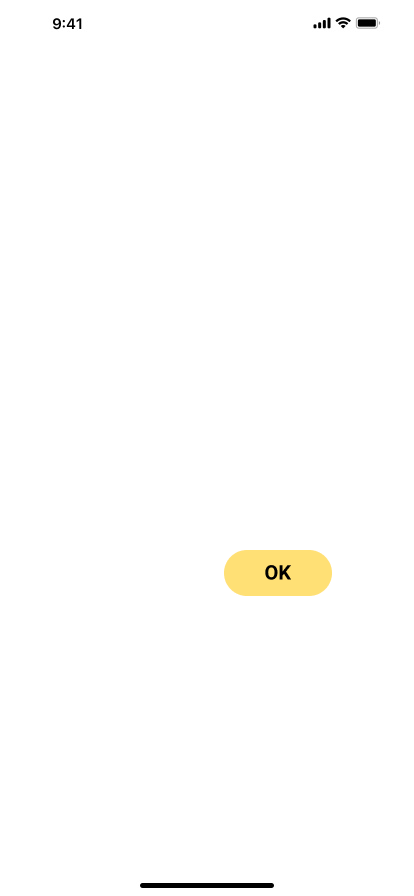Buttons: (224, 550, 332, 596)
Home Indicator: (0, 862, 414, 896)
Status Bar: (0, 0, 414, 44)
